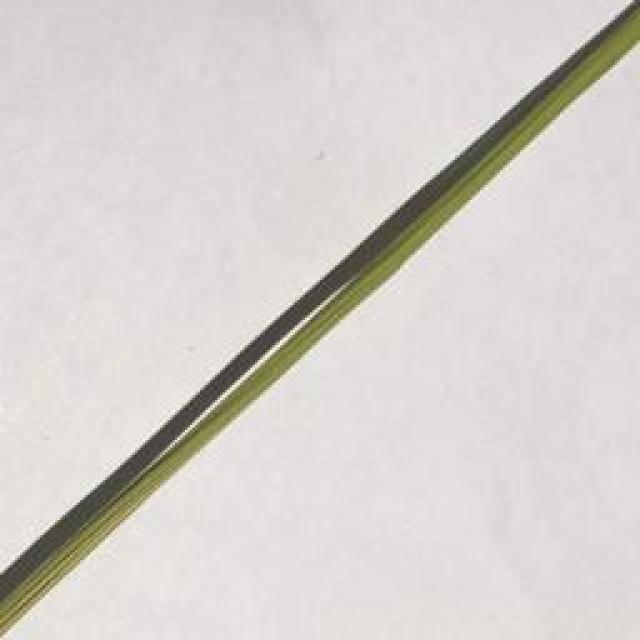Healthy-Plant: (0, 8, 638, 638)
